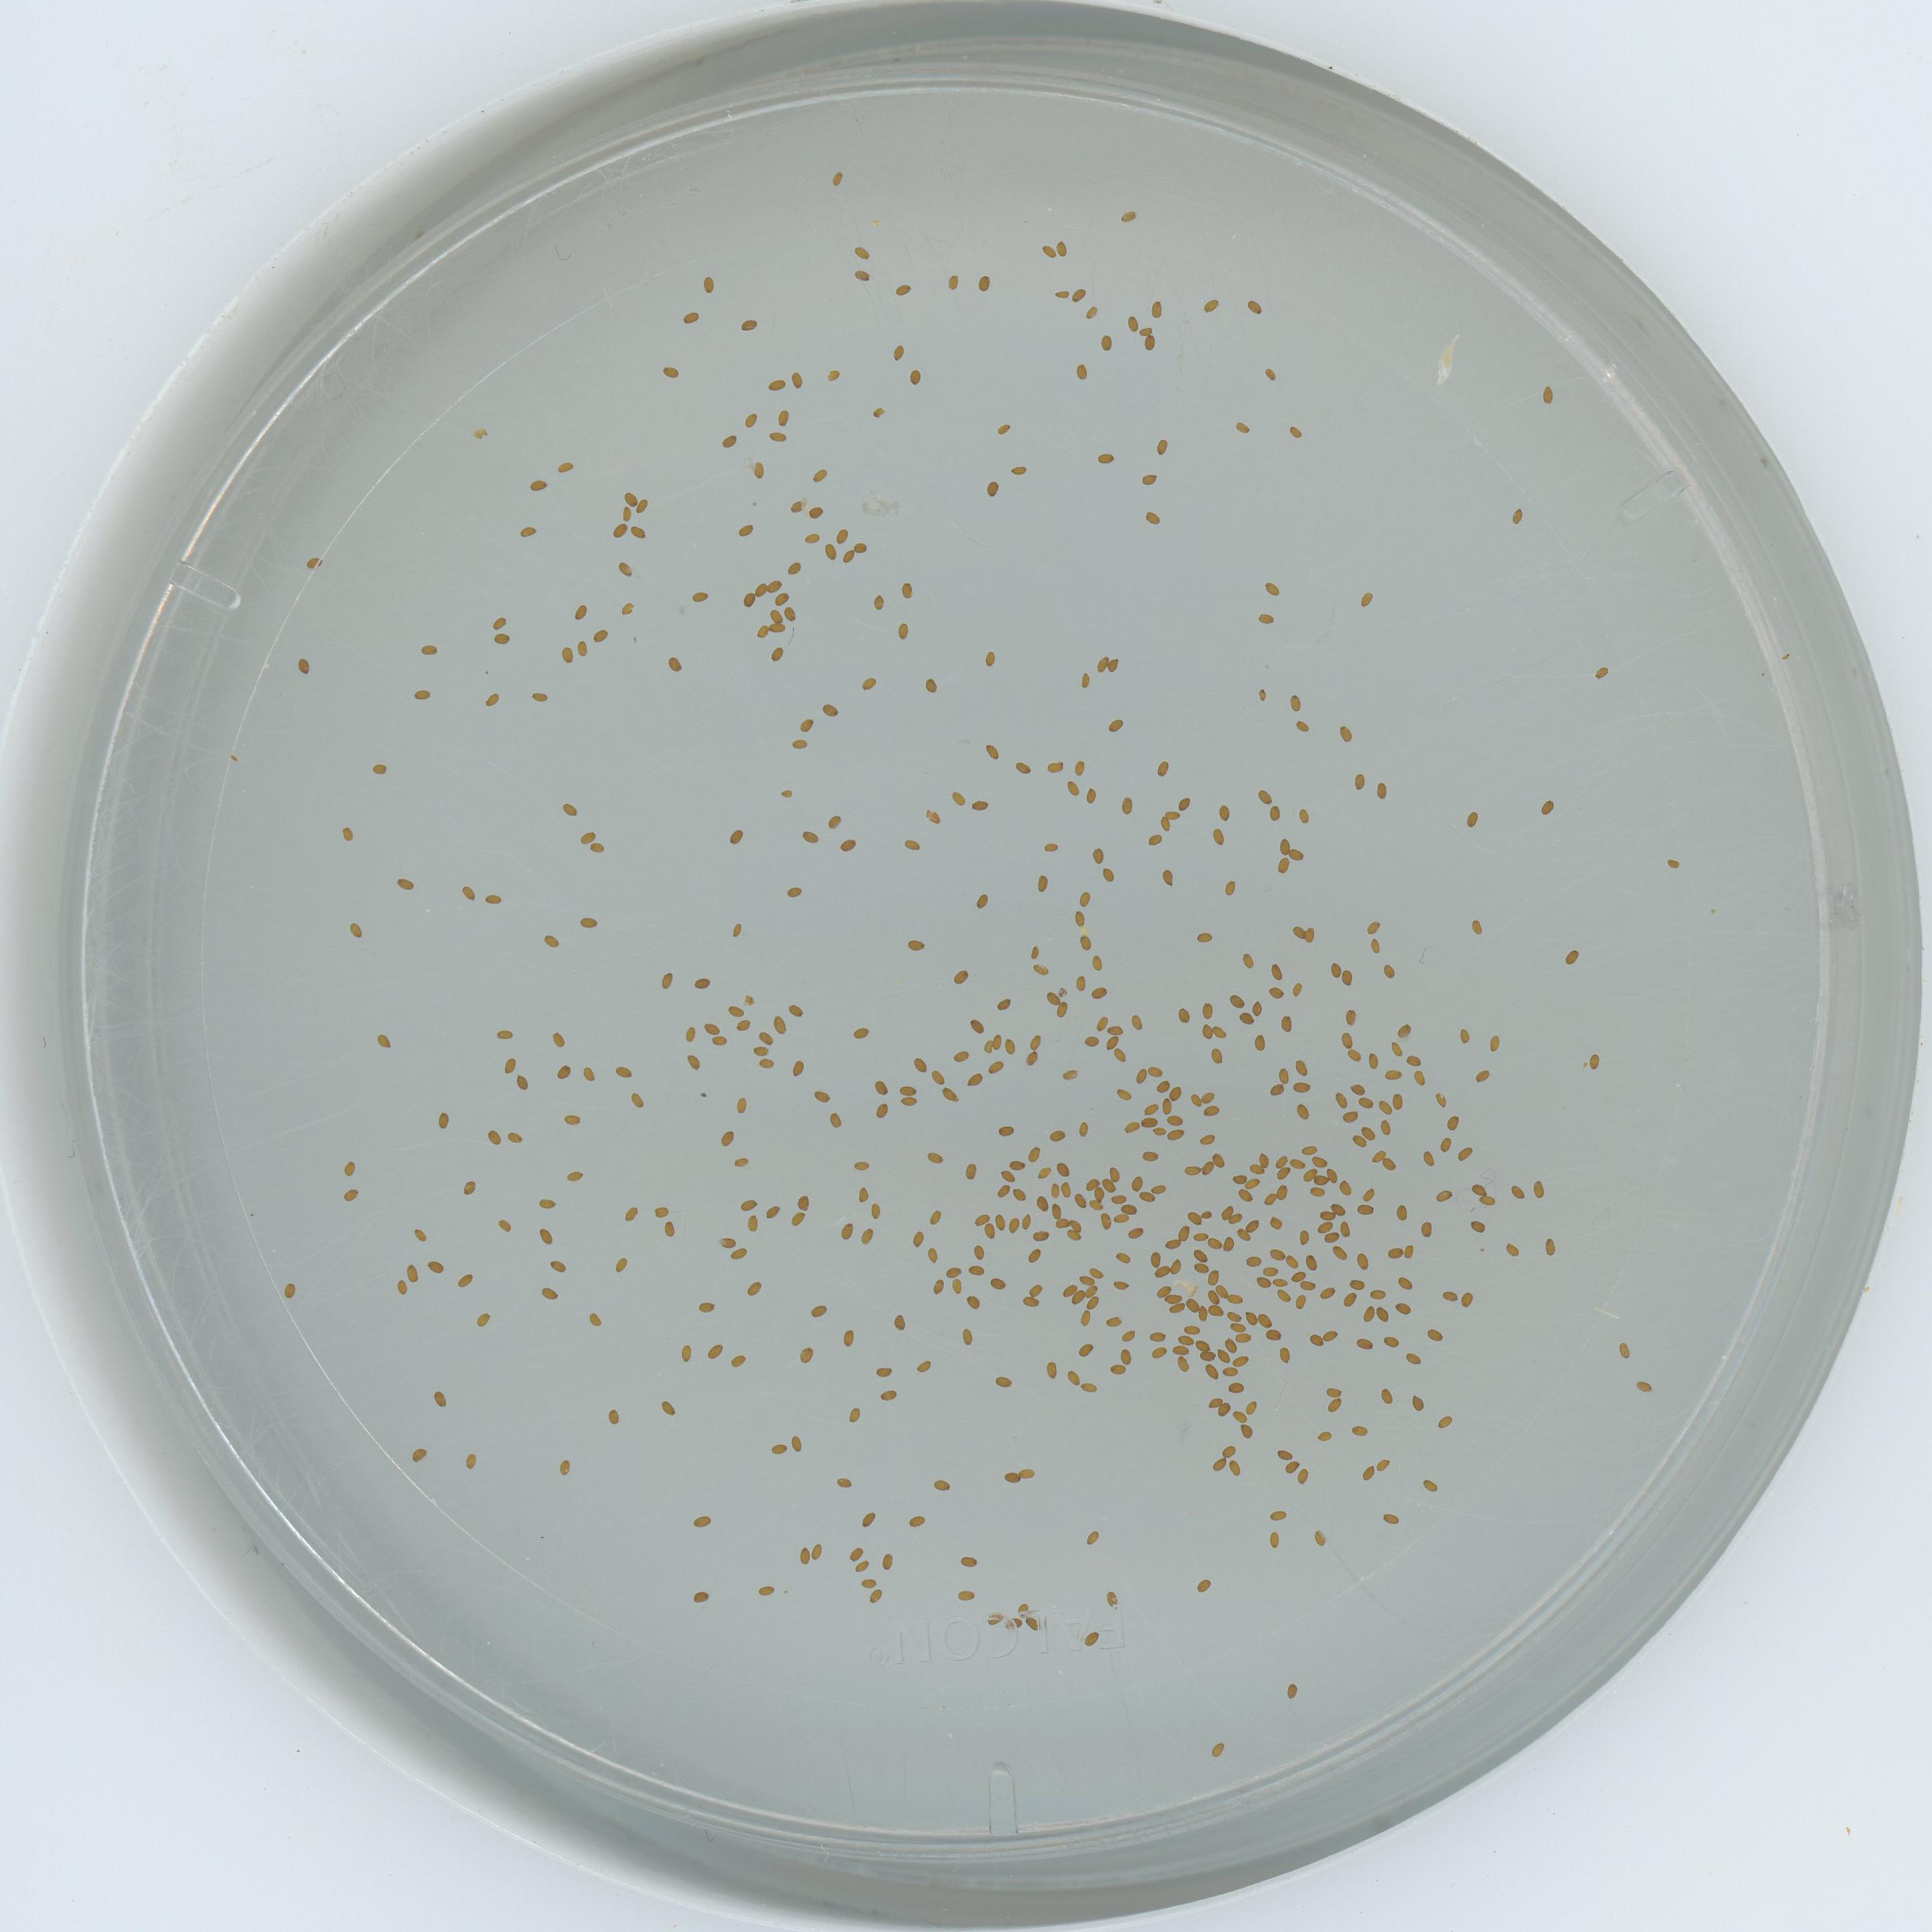seed: (425, 1254, 446, 1274), (755, 1028, 777, 1047), (1292, 1100, 1313, 1120), (1353, 1332, 1375, 1352), (1274, 1012, 1295, 1031), (1290, 1076, 1311, 1095), (1302, 1253, 1322, 1274), (1189, 1244, 1210, 1263), (770, 1014, 787, 1037), (725, 828, 745, 847), (718, 1127, 738, 1146), (840, 1327, 860, 1346), (536, 1226, 556, 1246), (1254, 787, 1274, 807), (1115, 796, 1134, 816), (975, 274, 994, 294), (1373, 1304, 1392, 1323), (985, 1054, 1005, 1074), (1249, 1031, 1269, 1051), (1330, 1244, 1350, 1263), (681, 306, 702, 324), (658, 1398, 679, 1415), (955, 1587, 978, 1603), (736, 520, 755, 538), (699, 276, 718, 294), (740, 315, 759, 333), (839, 837, 858, 855), (821, 701, 840, 718), (580, 913, 600, 931), (833, 525, 853, 543), (591, 626, 610, 644), (571, 602, 589, 621), (801, 828, 821, 846), (561, 801, 580, 819), (839, 1223, 858, 1240), (409, 1445, 428, 1463), (540, 1283, 559, 1300), (706, 1341, 725, 1359), (745, 1277, 764, 1295), (694, 1511, 713, 1529), (812, 1086, 832, 1104), (890, 1313, 909, 1330), (556, 1063, 573, 1083), (1562, 948, 1582, 966), (1044, 757, 1063, 775), (1095, 448, 1115, 465), (1074, 892, 1093, 909), (1012, 759, 1031, 777), (1350, 771, 1368, 791), (1157, 869, 1175, 888), (1286, 694, 1304, 713), (1070, 361, 1090, 379), (1074, 932, 1093, 950), (1023, 1246, 1042, 1263), (1053, 1157, 1072, 1175), (1226, 991, 1246, 1008), (1392, 1299, 1412, 1316), (1035, 1192, 1053, 1212), (1274, 1345, 1293, 1362), (1290, 1058, 1309, 1076), (1040, 1361, 1060, 1378), (1394, 1021, 1414, 1039), (1424, 1325, 1444, 1343), (1529, 1180, 1548, 1198), (1267, 962, 1284, 982), (1182, 1161, 1201, 1178), (966, 1016, 985, 1033), (1003, 1615, 1023, 1633), (950, 1047, 971, 1063), (1008, 462, 1030, 478), (1477, 1192, 1499, 1208), (959, 1553, 980, 1569), (911, 1230, 925, 1253), (775, 409, 793, 426), (770, 428, 787, 446), (345, 920, 363, 938), (897, 580, 915, 598), (662, 361, 679, 379), (922, 676, 939, 694), (893, 621, 911, 639), (395, 876, 412, 893), (764, 1203, 782, 1221), (694, 973, 711, 991), (931, 1067, 948, 1085), (862, 1509, 879, 1527), (616, 1062, 633, 1079), (879, 1553, 897, 1571), (908, 1513, 925, 1530), (798, 1345, 816, 1362), (925, 1146, 943, 1164), (789, 1060, 807, 1077), (741, 1194, 759, 1212), (826, 1111, 844, 1129), (628, 1092, 646, 1109), (662, 1219, 679, 1237), (341, 1159, 359, 1177), (550, 1030, 568, 1047), (1033, 876, 1051, 893), (1214, 805, 1231, 823), (1194, 927, 1212, 945), (984, 743, 1001, 761), (1145, 301, 1162, 318), (1069, 285, 1086, 303), (1139, 469, 1157, 487), (1336, 725, 1353, 743), (1208, 828, 1226, 846), (1246, 297, 1263, 315), (1095, 333, 1113, 350), (1076, 1339, 1093, 1357), (1382, 1509, 1399, 1527), (1437, 1138, 1454, 1155), (1410, 1394, 1428, 1412), (1047, 1127, 1065, 1145), (1219, 1440, 1237, 1458), (1385, 1242, 1403, 1260), (1318, 1283, 1336, 1300), (1392, 1201, 1410, 1219), (1122, 1116, 1139, 1134), (1394, 1272, 1412, 1290), (1026, 1146, 1044, 1164), (1175, 1355, 1192, 1373), (1444, 1115, 1461, 1132), (1116, 1346, 1134, 1364), (1175, 1223, 1192, 1240), (1541, 1238, 1559, 1256), (1417, 1219, 1435, 1237), (1194, 1576, 1212, 1594), (1378, 1387, 1396, 1405), (1364, 1051, 1382, 1069), (1353, 1251, 1371, 1269), (1203, 1267, 1221, 1284), (985, 1610, 1003, 1628), (906, 934, 925, 950), (483, 892, 502, 908), (798, 718, 817, 734), (529, 478, 548, 494), (768, 377, 787, 393), (750, 462, 770, 478), (899, 1081, 918, 1097), (791, 1208, 807, 1228), (874, 1079, 893, 1095), (939, 1086, 959, 1102), (685, 1053, 704, 1069), (1173, 796, 1192, 812), (1152, 761, 1171, 777), (1338, 1031, 1357, 1047), (1382, 1332, 1401, 1348), (1208, 1049, 1228, 1065), (1244, 1251, 1263, 1267), (993, 1373, 1012, 1389), (1265, 1214, 1284, 1230), (1384, 1063, 1403, 1079), (1221, 1362, 1240, 1378), (1387, 1042, 1407, 1058), (1182, 1320, 1201, 1336), (1336, 1178, 1355, 1194), (1063, 1369, 1083, 1385), (1486, 1037, 1506, 1053), (1125, 311, 1139, 333), (1263, 1327, 1284, 1341), (1077, 1380, 1099, 1394), (743, 410, 761, 426), (575, 640, 593, 656), (665, 656, 683, 672), (518, 524, 536, 540), (805, 531, 823, 547), (630, 524, 648, 540), (906, 368, 924, 384), (460, 886, 478, 902), (610, 522, 628, 538), (789, 497, 807, 513), (637, 497, 653, 515), (793, 736, 810, 752), (948, 791, 966, 807), (823, 545, 840, 561), (826, 816, 844, 832), (892, 343, 908, 361), (412, 686, 430, 702), (722, 432, 740, 448), (855, 242, 872, 258), (483, 690, 499, 708), (419, 640, 437, 656), (741, 593, 759, 609), (862, 676, 878, 694), (791, 372, 807, 389), (809, 504, 826, 520), (543, 932, 561, 948), (770, 646, 787, 662), (945, 272, 961, 290), (855, 265, 872, 281), (924, 810, 941, 826), (692, 587, 709, 603), (502, 1058, 520, 1074), (702, 1021, 720, 1037), (474, 1311, 492, 1327), (911, 1056, 929, 1072), (566, 1166, 584, 1182), (915, 1357, 932, 1373), (341, 1185, 359, 1201), (934, 1476, 952, 1491), (945, 1261, 962, 1277), (855, 1155, 872, 1171), (810, 1543, 826, 1560), (456, 1270, 474, 1286), (393, 1277, 410, 1293), (432, 1389, 448, 1407), (281, 1281, 297, 1299), (810, 1302, 828, 1318), (556, 1460, 573, 1476), (729, 1352, 747, 1368), (791, 1435, 807, 1453), (867, 1589, 885, 1605), (853, 1023, 870, 1039), (856, 1185, 874, 1201), (787, 1001, 805, 1017), (929, 1277, 947, 1293), (847, 1405, 863, 1422), (605, 1408, 623, 1424), (548, 1256, 566, 1272), (513, 1072, 531, 1088), (679, 1345, 697, 1361), (694, 1589, 711, 1605), (699, 1299, 717, 1315), (925, 1208, 943, 1224), (580, 1065, 598, 1081), (948, 1277, 966, 1293), (732, 1099, 750, 1115), (435, 1113, 453, 1129), (1203, 297, 1221, 313), (1267, 807, 1284, 823), (1088, 847, 1106, 863), (1274, 839, 1290, 856), (1106, 718, 1123, 734), (1139, 334, 1157, 350), (1364, 918, 1382, 934), (1263, 580, 1281, 596), (1509, 508, 1527, 524), (1152, 439, 1169, 455), (1288, 847, 1306, 863), (1357, 591, 1375, 607), (1118, 207, 1136, 223), (1295, 809, 1313, 824), (1037, 242, 1054, 258), (1081, 787, 1099, 803), (1293, 718, 1311, 734), (1539, 386, 1557, 402), (1070, 761, 1088, 777), (1226, 1378, 1244, 1394), (1196, 1129, 1214, 1145), (1237, 1010, 1254, 1026), (989, 1274, 1007, 1290), (1348, 1274, 1366, 1290), (1435, 1185, 1453, 1201), (1470, 1178, 1486, 1196), (1341, 1292, 1359, 1307), (998, 1168, 1016, 1184), (1350, 1079, 1368, 1095), (1019, 1463, 1035, 1481), (1008, 1155, 1026, 1171), (1146, 1327, 1164, 1343), (1081, 1629, 1099, 1645), (1350, 1422, 1368, 1438), (1001, 1468, 1019, 1484), (1359, 1185, 1376, 1201), (1258, 1311, 1274, 1329), (1341, 1008, 1357, 1026), (1369, 1284, 1387, 1300), (1109, 1046, 1127, 1062), (1184, 1207, 1201, 1223), (994, 996, 1012, 1012), (1325, 1398, 1343, 1414), (1111, 1276, 1129, 1292), (1231, 1169, 1249, 1185), (1274, 1067, 1292, 1083), (1276, 1444, 1293, 1460), (1139, 1146, 1157, 1162), (1468, 1217, 1486, 1233), (1010, 1185, 1028, 1201), (1033, 1162, 1051, 1178), (1504, 1240, 1522, 1256), (1017, 1212, 1033, 1230), (1127, 1175, 1145, 1191), (1355, 1093, 1373, 1109), (1419, 1152, 1437, 1168), (1332, 1092, 1350, 1108), (1125, 1224, 1143, 1240), (1355, 1201, 1373, 1217), (1283, 1253, 1300, 1269), (1026, 1033, 1044, 1049), (1456, 1145, 1474, 1161), (1205, 1392, 1223, 1408), (1168, 1258, 1185, 1274), (1198, 1003, 1215, 1019), (1198, 1023, 1214, 1040), (966, 1072, 984, 1088), (1509, 1184, 1527, 1200), (1104, 1313, 1122, 1329), (1026, 1281, 1044, 1297), (1405, 1049, 1422, 1065), (1265, 1532, 1283, 1548), (1127, 1014, 1145, 1030), (1090, 1014, 1108, 1030), (1295, 1228, 1311, 1246), (1405, 1350, 1422, 1366), (1150, 1178, 1168, 1194), (1155, 1283, 1173, 1299), (1359, 1465, 1376, 1481), (1361, 1125, 1378, 1141), (1237, 1422, 1254, 1438), (1208, 1456, 1226, 1472), (1435, 1412, 1453, 1428), (1635, 1378, 1652, 1394), (1001, 1039, 1019, 1054), (1338, 1221, 1355, 1237), (1341, 1106, 1359, 1122), (1115, 1085, 1132, 1100), (1173, 1007, 1191, 1023), (1456, 1028, 1474, 1044), (1322, 1325, 1339, 1341), (1102, 1031, 1120, 1047), (1380, 1155, 1398, 1171), (1244, 1217, 1261, 1233), (1421, 1476, 1438, 1491), (1060, 1281, 1077, 1297), (1021, 1051, 1039, 1067), (1083, 1529, 1100, 1545), (1585, 1053, 1603, 1069), (1378, 1120, 1394, 1138), (1617, 1341, 1633, 1359), (1201, 1362, 1219, 1378), (1145, 1249, 1162, 1265), (1102, 1177, 1118, 1194), (1214, 1401, 1231, 1417), (1076, 1309, 1093, 1325), (1389, 1093, 1407, 1109), (1102, 1591, 1118, 1608), (1154, 1263, 1171, 1279), (993, 1212, 1008, 1230), (1269, 1244, 1286, 1260), (1208, 1741, 1226, 1757), (1369, 1146, 1387, 1162), (1016, 1603, 1033, 1619), (1026, 1617, 1044, 1633), (720, 1233, 738, 1249), (879, 1387, 899, 1401), (869, 1201, 883, 1221), (745, 1214, 759, 1233), (1171, 1343, 1191, 1357), (1019, 1295, 1039, 1309), (971, 1242, 985, 1261), (1162, 1292, 1182, 1306), (580, 828, 596, 844), (621, 488, 637, 504), (557, 458, 573, 474), (787, 559, 803, 575), (904, 837, 920, 853), (872, 594, 888, 610), (826, 366, 842, 382), (531, 688, 547, 704), (778, 786, 794, 801), (619, 602, 635, 617), (559, 648, 575, 663), (855, 540, 870, 556), (340, 826, 356, 842), (295, 658, 311, 674), (494, 630, 510, 646), (768, 577, 784, 593), (814, 467, 830, 483), (755, 625, 771, 640), (832, 170, 847, 186), (617, 561, 633, 577), (768, 607, 784, 623), (759, 1054, 775, 1070), (683, 1026, 699, 1042), (662, 973, 678, 989), (655, 1201, 671, 1217), (736, 1017, 752, 1033), (771, 1440, 787, 1456), (796, 1192, 812, 1208), (462, 1453, 478, 1468), (497, 1024, 513, 1040), (487, 1129, 502, 1145), (495, 1215, 511, 1231), (734, 1152, 750, 1168), (375, 1031, 391, 1047), (462, 1178, 478, 1194), (623, 1205, 639, 1221), (759, 1582, 775, 1598), (506, 1127, 522, 1143), (587, 1311, 603, 1327), (796, 1548, 812, 1564), (405, 1265, 421, 1281), (985, 481, 1001, 497), (1143, 508, 1159, 524), (1099, 867, 1115, 883), (1077, 672, 1093, 688), (1373, 782, 1389, 798), (982, 651, 998, 667), (975, 893, 991, 909), (1233, 418, 1249, 433), (1596, 663, 1612, 679), (1221, 881, 1237, 897), (1539, 800, 1555, 816), (1276, 858, 1292, 874), (1063, 782, 1079, 798), (1366, 938, 1382, 954), (1470, 918, 1486, 934), (1104, 658, 1120, 674), (1286, 423, 1302, 439), (1070, 909, 1086, 925), (1233, 1352, 1249, 1368), (1143, 1100, 1159, 1116), (994, 1182, 1010, 1198), (1376, 1456, 1392, 1472), (1106, 1166, 1122, 1182), (1072, 975, 1088, 991), (1146, 1062, 1162, 1077), (1249, 1000, 1265, 1016), (1254, 1274, 1270, 1290), (1274, 1288, 1290, 1304), (1442, 1286, 1458, 1302), (1070, 1191, 1086, 1207), (1311, 1529, 1327, 1545), (1267, 984, 1283, 1000), (1200, 1086, 1215, 1102), (1109, 1361, 1125, 1376), (1293, 1293, 1309, 1309), (1074, 1120, 1090, 1136), (1150, 1345, 1166, 1361), (1276, 1184, 1292, 1200), (1185, 1090, 1201, 1106), (998, 1122, 1014, 1138), (1412, 1070, 1428, 1086), (1223, 1338, 1238, 1353), (1212, 1023, 1228, 1039), (1460, 1290, 1476, 1306), (1474, 1069, 1490, 1085), (1083, 1031, 1099, 1047), (1053, 1001, 1069, 1017), (1433, 1090, 1449, 1106), (1088, 1265, 1104, 1281), (1330, 1201, 1346, 1217), (1120, 1327, 1136, 1343), (1106, 1021, 1122, 1037), (1361, 1306, 1376, 1322), (1205, 1288, 1221, 1304), (966, 1293, 982, 1309), (1115, 1249, 1131, 1265), (973, 1208, 989, 1224), (1212, 1152, 1228, 1168), (980, 1223, 996, 1238), (1047, 1203, 1063, 1219), (1283, 1684, 1299, 1700), (1157, 1099, 1173, 1115), (1242, 1398, 1258, 1414), (1226, 1460, 1242, 1476), (1214, 1346, 1230, 1362), (306, 554, 322, 570), (775, 591, 793, 605), (490, 616, 508, 630), (587, 842, 605, 856), (729, 1247, 747, 1261), (878, 1362, 895, 1376), (711, 1033, 729, 1047), (538, 1194, 556, 1208), (927, 1246, 941, 1263), (971, 800, 989, 814), (1085, 952, 1102, 966), (1053, 287, 1070, 301), (1302, 925, 1316, 943), (1345, 1047, 1362, 1062), (1237, 1187, 1254, 1201), (1299, 1139, 1316, 1154), (1230, 1408, 1247, 1422), (1201, 1104, 1219, 1118), (1162, 1237, 1180, 1251), (1031, 1228, 1049, 1242), (1138, 1189, 1155, 1203), (1164, 1111, 1182, 1125), (1269, 1507, 1286, 1522), (1154, 1079, 1171, 1093), (1323, 1230, 1341, 1244), (1306, 1332, 1323, 1346), (1168, 1086, 1185, 1100), (1281, 1460, 1299, 1474), (1005, 1217, 1019, 1235), (1192, 1336, 1210, 1350), (1276, 1166, 1293, 1180), (1141, 1115, 1159, 1129), (1205, 1237, 1223, 1251), (1191, 1260, 1208, 1274), (1261, 1263, 1279, 1277), (1376, 1100, 1394, 1115), (961, 1329, 975, 1346), (1166, 1302, 1185, 1315), (1120, 1201, 1139, 1214), (1329, 961, 1341, 980), (1311, 1173, 1330, 1185), (1051, 1217, 1070, 1230), (784, 607, 800, 621), (619, 508, 633, 524), (755, 582, 770, 598), (370, 763, 386, 777), (895, 281, 911, 295), (787, 885, 803, 899), (770, 621, 786, 635), (872, 403, 888, 418), (412, 1228, 428, 1242), (874, 1104, 890, 1118), (754, 1042, 770, 1056), (564, 1111, 580, 1125), (729, 1003, 745, 1017), (954, 970, 968, 985), (862, 1575, 878, 1589), (837, 1476, 853, 1490), (849, 1546, 865, 1560), (612, 1258, 628, 1272), (1263, 364, 1277, 380), (1258, 612, 1274, 626), (1146, 833, 1162, 847), (1085, 306, 1100, 320), (1463, 814, 1479, 828), (1667, 856, 1681, 872), (1040, 840, 1056, 855), (1155, 817, 1171, 832), (1093, 656, 1108, 672), (1024, 945, 1039, 961), (1272, 1274, 1288, 1288), (1316, 1428, 1332, 1442), (1097, 1214, 1111, 1230), (1090, 985, 1106, 1000), (1058, 1182, 1072, 1198), (1288, 982, 1304, 996), (1290, 1155, 1306, 1169), (1244, 1311, 1260, 1325), (1341, 970, 1355, 985), (1063, 1069, 1079, 1083), (968, 1263, 984, 1277), (1070, 1290, 1085, 1306), (1267, 1081, 1283, 1095), (1166, 1127, 1182, 1141), (1132, 1067, 1146, 1083), (1191, 1228, 1207, 1242), (966, 1162, 980, 1178), (1198, 1205, 1214, 1219), (1215, 1283, 1230, 1299), (1295, 1468, 1309, 1484), (1223, 1237, 1237, 1253), (1042, 991, 1058, 1005), (1313, 1154, 1329, 1168), (1300, 1168, 1316, 1182), (1228, 1210, 1244, 1224), (1228, 1292, 1244, 1306), (1046, 1184, 1062, 1198), (1228, 1307, 1244, 1322), (1085, 1284, 1100, 1299), (978, 1039, 994, 1053), (1088, 1198, 1104, 1212), (1069, 1217, 1085, 1231), (862, 1226, 874, 1244), (901, 1095, 918, 1108), (1242, 952, 1254, 970), (1056, 239, 1069, 257), (1083, 1178, 1100, 1191), (1350, 1134, 1368, 1146), (1288, 1269, 1306, 1281), (1109, 1192, 1127, 1205), (1318, 1208, 1336, 1221), (1403, 1242, 1415, 1260), (1031, 964, 1049, 977), (1200, 1350, 1217, 1362), (1228, 1320, 1246, 1332), (1323, 1387, 1343, 1398), (731, 922, 745, 936), (842, 550, 856, 564), (996, 421, 1010, 435), (1382, 966, 1396, 980), (1185, 1299, 1200, 1313), (1261, 1191, 1276, 1205), (1237, 1228, 1251, 1242), (1201, 1161, 1215, 1175), (1274, 1154, 1288, 1168), (1256, 1154, 1270, 1168), (1325, 1168, 1339, 1182), (1316, 1219, 1330, 1233), (1219, 1207, 1233, 1221), (855, 1560, 870, 1573), (1293, 924, 1306, 939), (1164, 810, 1180, 823), (1136, 324, 1152, 336), (1113, 1212, 1129, 1224), (1300, 1279, 1316, 1292), (1246, 1177, 1261, 1189), (1067, 1228, 1083, 1240), (1309, 1185, 1325, 1198), (1235, 1330, 1251, 1343), (1249, 1162, 1265, 1175), (1093, 1187, 1106, 1203), (1085, 1295, 1100, 1307), (1207, 1304, 1223, 1316), (1175, 1332, 1191, 1345), (1256, 688, 1269, 704), (1196, 1306, 1208, 1320), (1079, 1274, 1095, 1284), (1150, 1125, 1166, 1136), (993, 1033, 1003, 1049)
